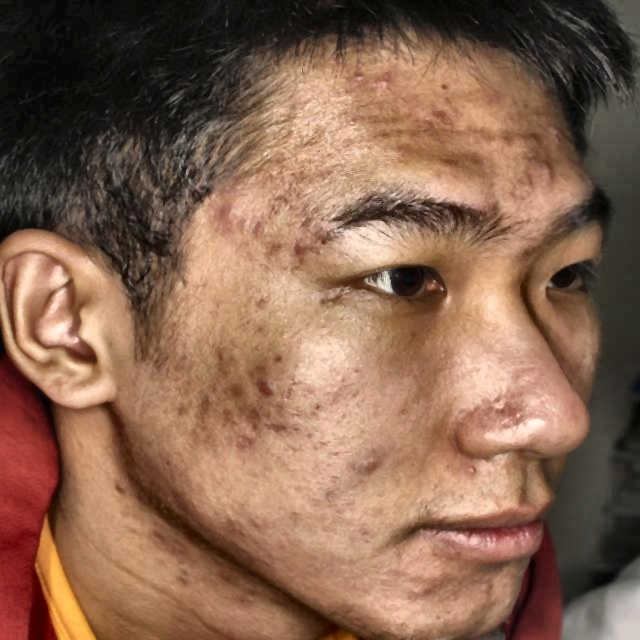pustule: (281, 232, 315, 274), (527, 158, 569, 190), (199, 198, 232, 234), (237, 410, 279, 435), (474, 572, 502, 602), (200, 386, 226, 418), (246, 364, 267, 403), (539, 122, 568, 147), (410, 564, 431, 598), (368, 60, 391, 90), (224, 376, 245, 408), (371, 461, 396, 484), (237, 212, 257, 238)
